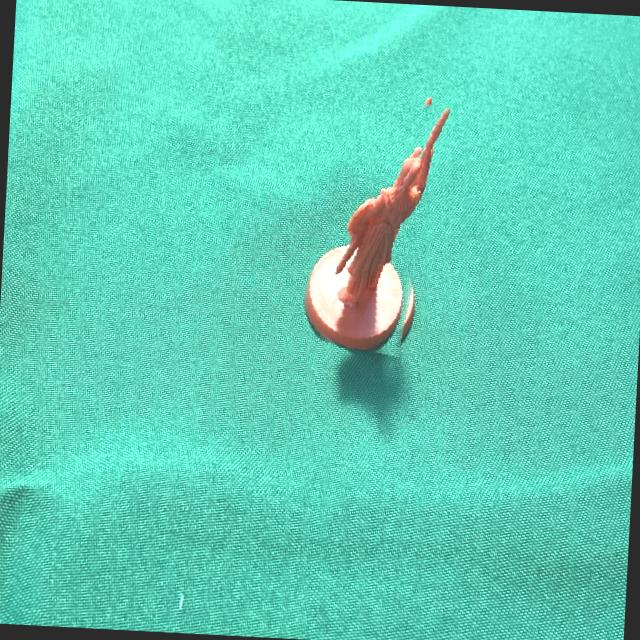amon_follower: (304, 108, 450, 350)
